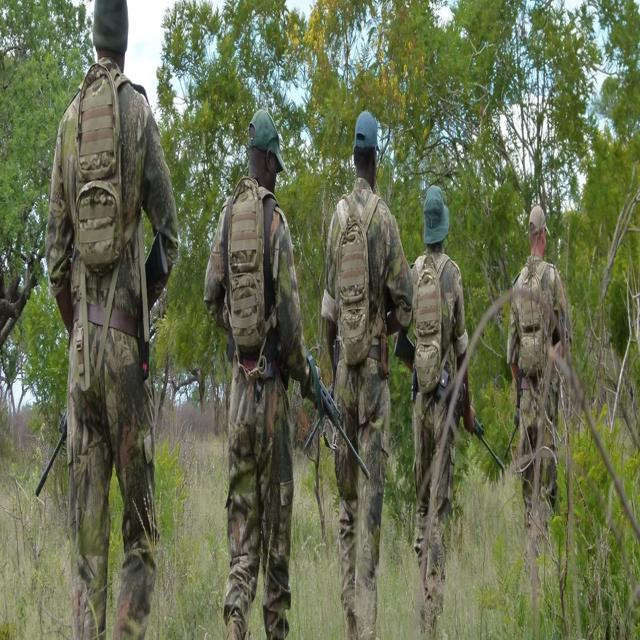backpack: (166, 166, 307, 396), (33, 53, 155, 296), (297, 161, 419, 391), (385, 232, 477, 412), (488, 240, 584, 401)
gun: (269, 336, 393, 502), (431, 368, 539, 503)
ranger: (2, 2, 231, 640), (170, 81, 354, 638), (287, 79, 443, 636), (361, 154, 507, 636), (476, 166, 602, 622)
